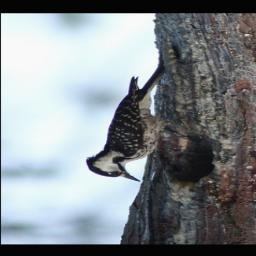Woodpecker: (84, 63, 199, 184)
